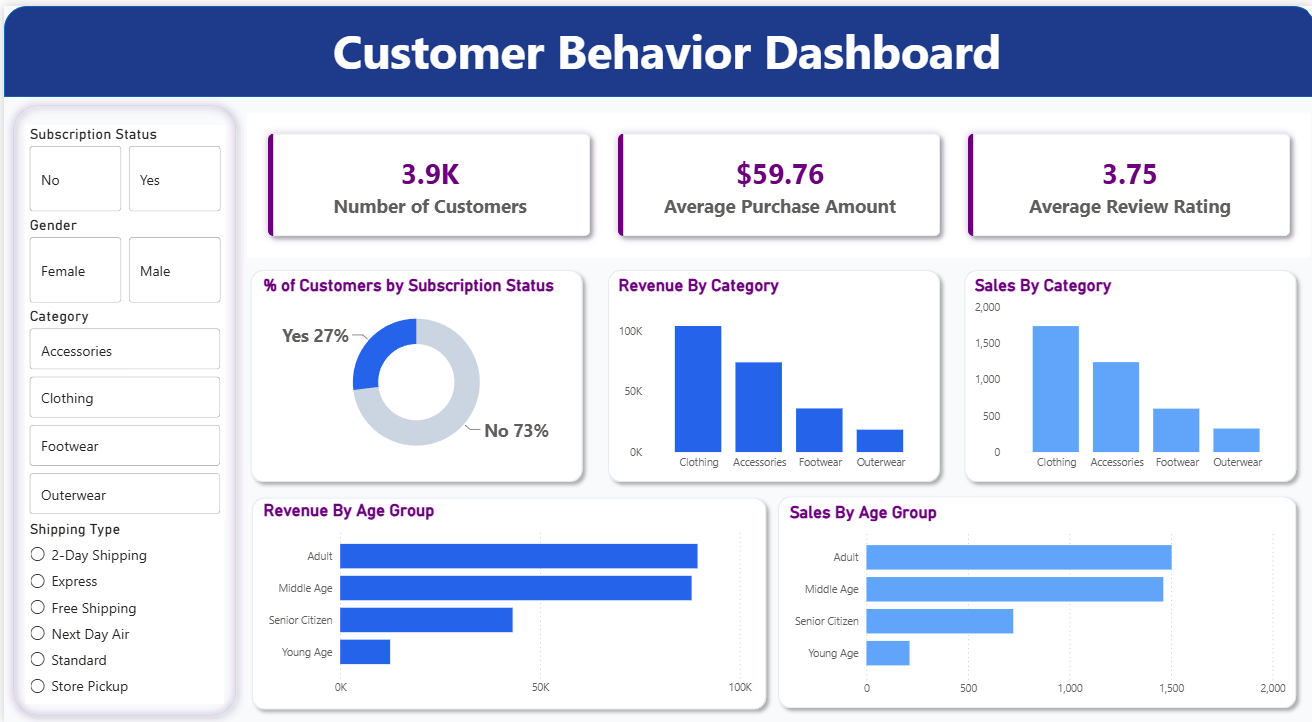

This screenshot's page, from the dashboard's own definition file:
{"tool":"powerbi","page":{"name":"Page 1","canvas":[1500,820],"ordinal":0},"visuals":[{"type":"cardVisual","fields":{"Data":["customer_shopping_behavior.number_of_customers","customer_shopping_behavior.average_purchase_amount","customer_shopping_behavior.average_review_rating"]},"box":[251.4,104.3,1248.6,175.7],"z":0},{"type":"shape","box":[0,0,1500,104.3],"z":1000},{"type":"textbox","box":[77.1,10,1361.4,94.3],"z":2000},{"type":"shape","box":[272.9,292.9,397.1,260],"z":3000},{"type":"donutChart","title":"% of Customers by Subscription Status","fields":{"Category":["customer_shopping_behavior.subscription_status"],"Y":["CountNonNull(customer_shopping_behavior.customer_id)"]},"box":[291.4,308.6,360,221.4],"z":4000},{"type":"shape","box":[680.7,292.9,397.1,260],"z":5000},{"type":"shape","box":[1088.6,292.9,397.1,260],"z":6000},{"type":"clusteredColumnChart","title":"Revenue By Category","fields":{"Y":["Sum(customer_shopping_behavior.purchase_amount)"],"Category":["customer_shopping_behavior.category"]},"box":[697.1,308.6,365.7,231.4],"z":7000},{"type":"clusteredColumnChart","title":"Sales By Category","fields":{"Category":["customer_shopping_behavior.category"],"Y":["CountNonNull(customer_shopping_behavior.customer_id)"]},"box":[1104.3,308.6,365.7,231.4],"z":8000},{"type":"shape","box":[1.4,104.3,272.9,715.7],"z":9000},{"type":"advancedSlicerVisual","fields":{"Values":["customer_shopping_behavior.subscription_status"]},"box":[24.3,135.7,228.6,104.3],"z":10000},{"type":"advancedSlicerVisual","fields":{"Values":["customer_shopping_behavior.gender"]},"box":[24.3,240,228.6,104.3],"z":11000},{"type":"advancedSlicerVisual","fields":{"Values":["customer_shopping_behavior.category"]},"box":[24.3,344.3,228.6,242.9],"z":12000},{"type":"listSlicer","fields":{"Values":["customer_shopping_behavior.shipping_type"]},"box":[24.3,587.1,227.1,210],"z":12001},{"type":"shape","box":[274.3,552.9,605.7,260],"z":12003},{"type":"clusteredBarChart","title":"Revenue By Age Group","fields":{"Y":["Sum(customer_shopping_behavior.purchase_amount)"],"Category":["customer_shopping_behavior.age_group"]},"box":[291.4,565.7,568.6,231.4],"z":12004},{"type":"shape","box":[875.7,551.4,610,260],"z":12005},{"type":"clusteredBarChart","title":"Sales By Age Group","fields":{"Category":["customer_shopping_behavior.age_group"],"Y":["CountNonNull(customer_shopping_behavior.customer_id)"]},"box":[892.9,567.1,577.1,231.4],"z":12006}]}

Visuals, with their boxes in screenshot pixels (x1, y1, x2, y2), scaled from the page's 1500x820 canvas onto the 1312x722 screenshot:
cardVisual - customer_shopping_behavior.number_of_customers x customer_shopping_behavior.average_purchase_amount: [left=220, top=92, right=1311, bottom=247]
shape: [left=0, top=0, right=1311, bottom=92]
textbox: [left=67, top=9, right=1258, bottom=92]
shape: [left=239, top=258, right=586, bottom=487]
"% of Customers by Subscription Status" donutChart: [left=255, top=272, right=570, bottom=467]
shape: [left=595, top=258, right=943, bottom=487]
shape: [left=952, top=258, right=1299, bottom=487]
"Revenue By Category" clusteredColumnChart: [left=610, top=272, right=930, bottom=475]
"Sales By Category" clusteredColumnChart: [left=966, top=272, right=1286, bottom=475]
shape: [left=1, top=92, right=240, bottom=721]
advancedSlicerVisual - customer_shopping_behavior.subscription_status: [left=21, top=119, right=221, bottom=211]
advancedSlicerVisual - customer_shopping_behavior.gender: [left=21, top=211, right=221, bottom=303]
advancedSlicerVisual - customer_shopping_behavior.category: [left=21, top=303, right=221, bottom=517]
listSlicer - customer_shopping_behavior.shipping_type: [left=21, top=517, right=220, bottom=702]
shape: [left=240, top=487, right=770, bottom=716]
"Revenue By Age Group" clusteredBarChart: [left=255, top=498, right=752, bottom=702]
shape: [left=766, top=486, right=1299, bottom=714]
"Sales By Age Group" clusteredBarChart: [left=781, top=499, right=1286, bottom=703]
